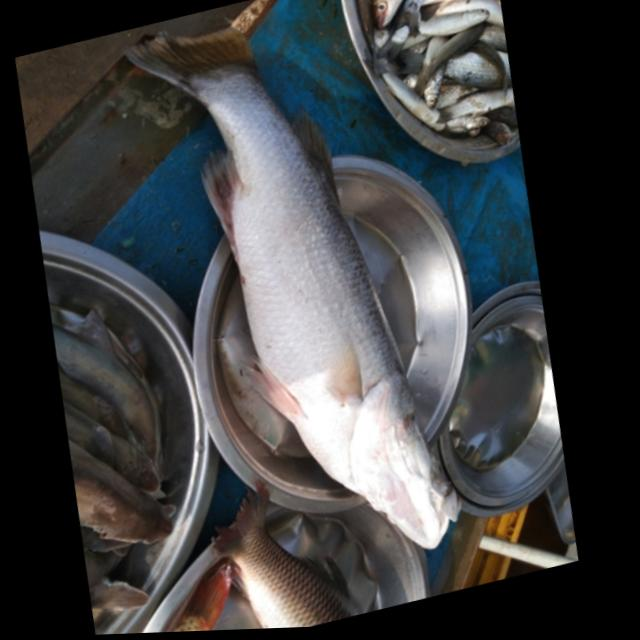Seabass: (77, 0, 509, 611)
